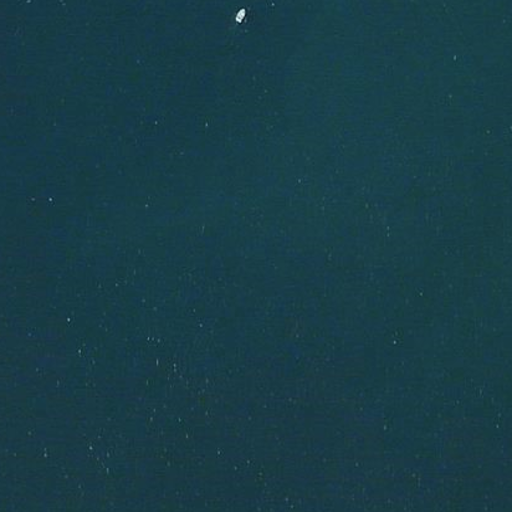ship: (232, 5, 248, 26)
